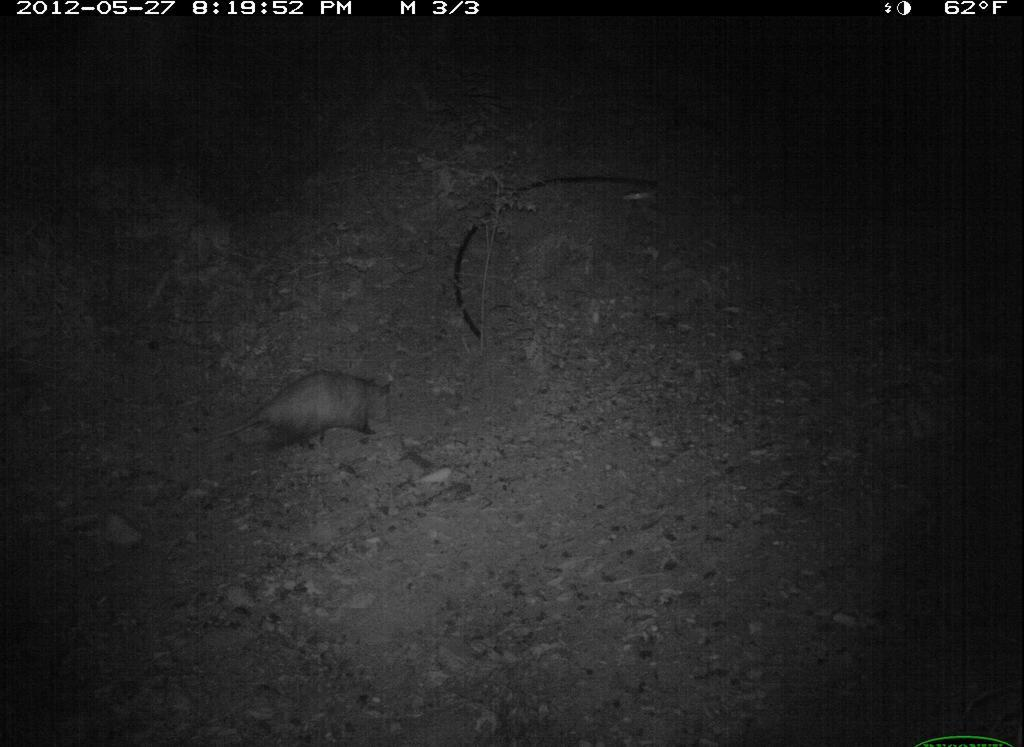opossum: (207, 355, 423, 466)
